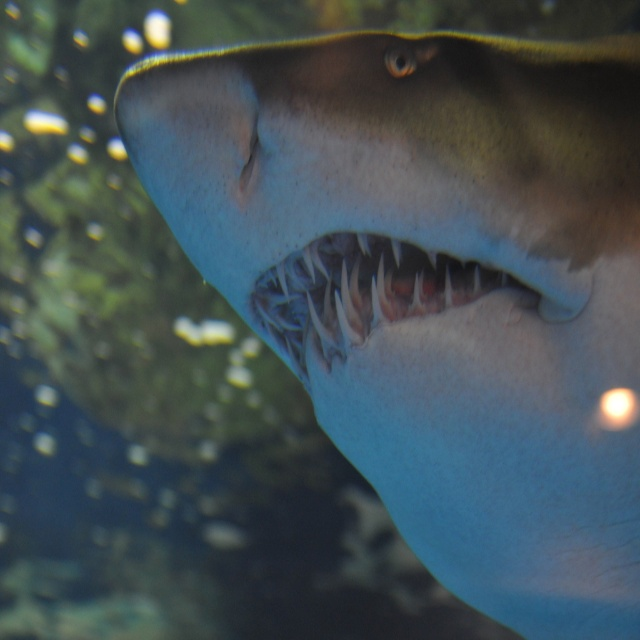Shark: (109, 0, 637, 595)
